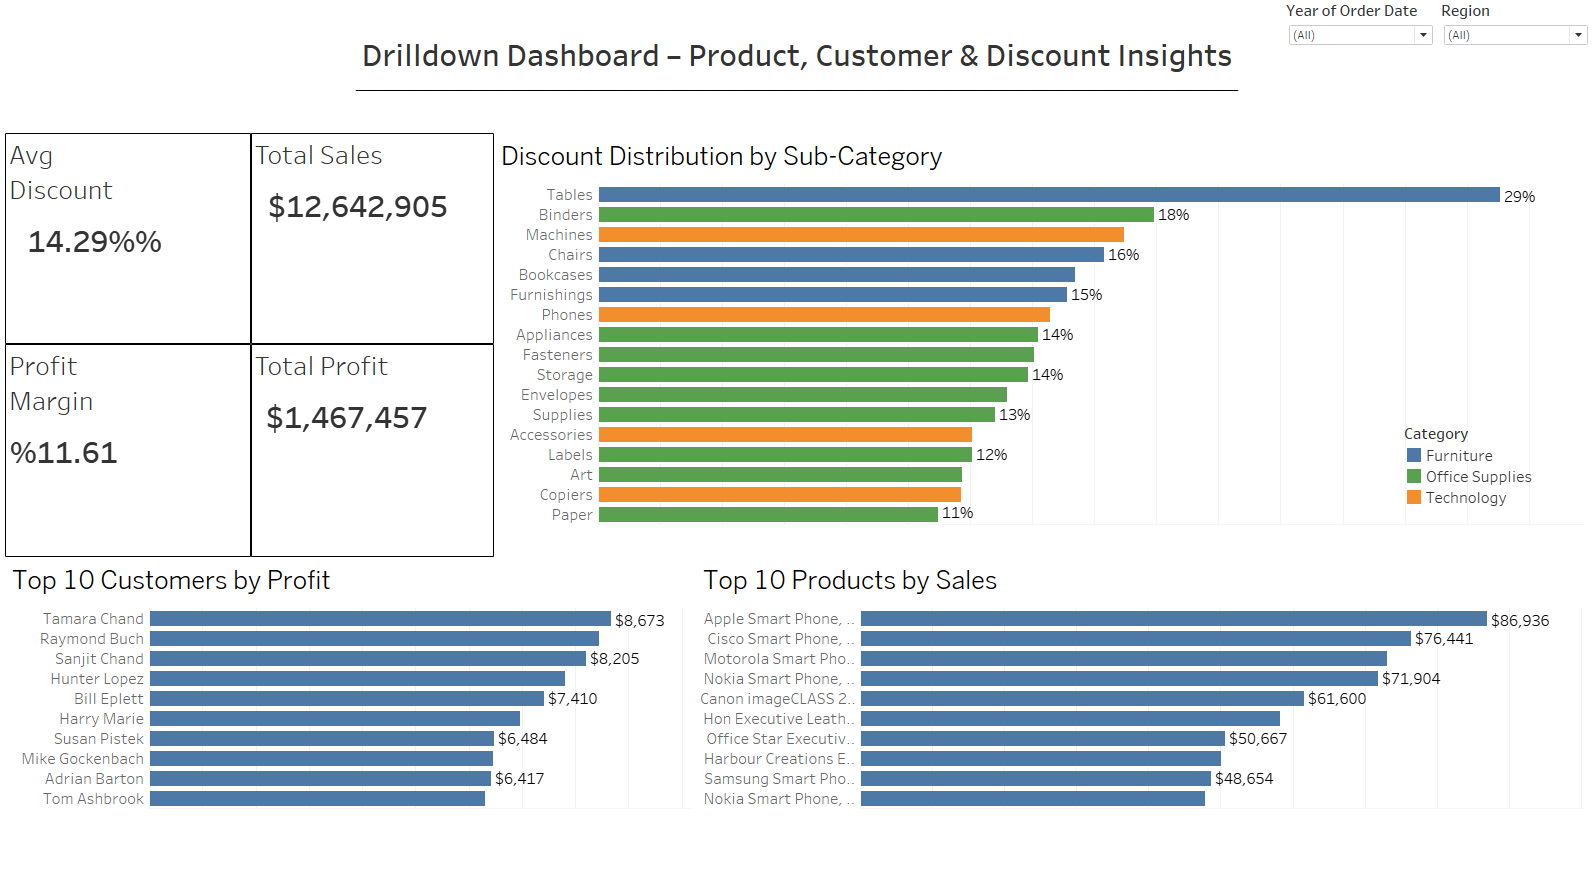

The dashboard page shown, as its layout file describes it:
{"tool":"tableau","page":{"name":"Drilldown View","canvas":[1600,900],"ordinal":0},"visuals":[{"type":"filter","title":"Top Products by Sales","param":"[federated.0678bsq19srvlk10o4p8z009fxcs].[yr:order_date:ok]","box":[1288.7,0,150.3,48.1]},{"type":"filter","title":"Top Products by Sales","param":"[federated.0678bsq19srvlk10o4p8z009fxcs].[none:region:nk]","box":[1443.9,0,150.3,48.1]},{"type":"title","box":[8,8,1584,125]},{"type":"dashboard-object","box":[0,8.4,28.4,25.1]},{"type":"worksheet","title":"KPI - Avg Discount","mark":"Automatic","box":[8,133,245.7,211]},{"type":"worksheet","title":"KPI - Total Sales","mark":"Automatic","box":[253.7,133,243.4,211]},{"type":"worksheet","title":"Avg Discount by Sub-Category","mark":"Automatic","rows":["sub_category"],"cols":["discount"],"box":[497.2,133,1094.8,424.1]},{"type":"worksheet","title":"KPI - Profit Margin","mark":"Automatic","box":[8,344,245.7,213.1]},{"type":"worksheet","title":"KPI - Total Profit","mark":"Automatic","box":[253.7,344,243.4,213.1]},{"type":"legend","title":"Avg Discount by Sub-Category","param":"[federated.0678bsq19srvlk10o4p8z009fxcs].[none:category:nk]","box":[1406.8,422.8,165.9,115.1]},{"type":"worksheet","title":"Top Customers by Profit","mark":"Automatic","rows":["customer_name"],"cols":["profit"],"box":[8,557.1,691,334.9]},{"type":"worksheet","title":"Top Products by Sales","mark":"Automatic","rows":["product_name"],"cols":["sales"],"box":[699,557.1,893,334.9]}]}

Visuals, with their boxes in screenshot pixels (x1, y1, x2, y2), scaled from the page's 1600x900 canvas onto the 1596x890 screenshot:
"Top Products by Sales" filter: [1285,0,1435,48]
"Top Products by Sales" filter: [1440,0,1590,48]
title: [8,8,1588,132]
dashboard-object: [0,8,28,33]
"KPI - Avg Discount" worksheet: [8,132,253,340]
"KPI - Total Sales" worksheet: [253,132,496,340]
"Avg Discount by Sub-Category" worksheet: [496,132,1588,551]
"KPI - Profit Margin" worksheet: [8,340,253,551]
"KPI - Total Profit" worksheet: [253,340,496,551]
"Avg Discount by Sub-Category" legend: [1403,418,1569,532]
"Top Customers by Profit" worksheet: [8,551,697,882]
"Top Products by Sales" worksheet: [697,551,1588,882]
